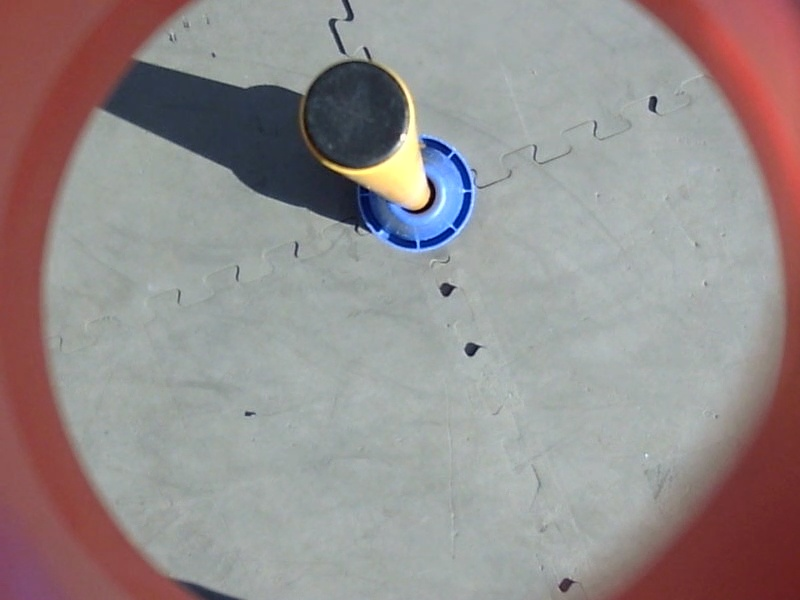tip: (293, 55, 420, 178)
